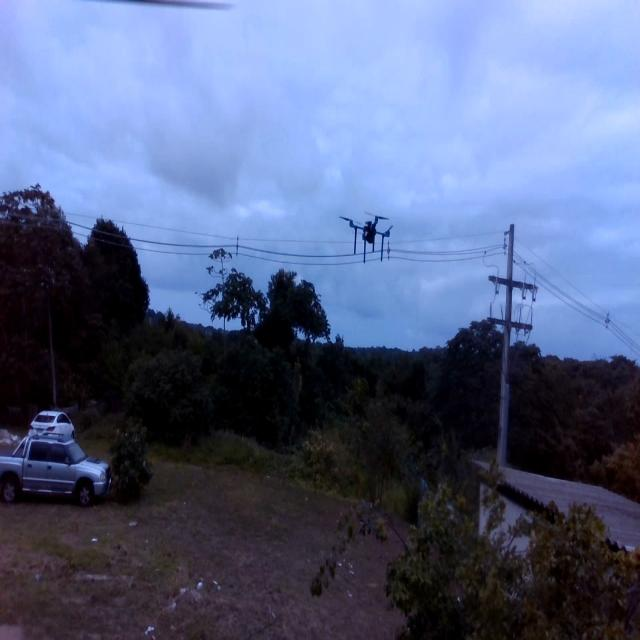-uav-: (342, 194, 400, 287)
